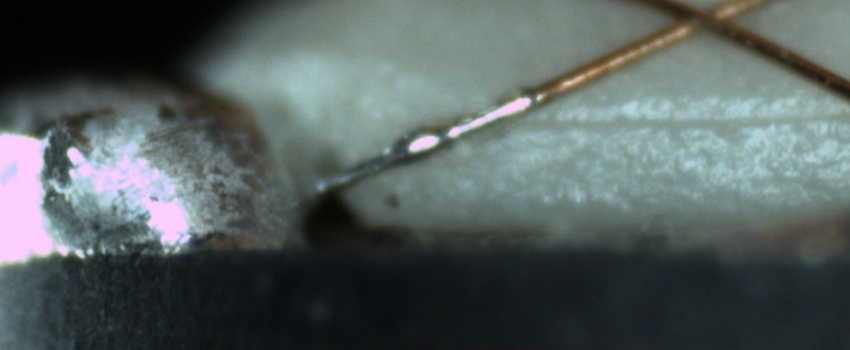CL: (649, 1, 754, 42)
DL: (516, 94, 849, 147)
TS: (316, 90, 541, 196)
TTCW: (308, 63, 588, 200)
